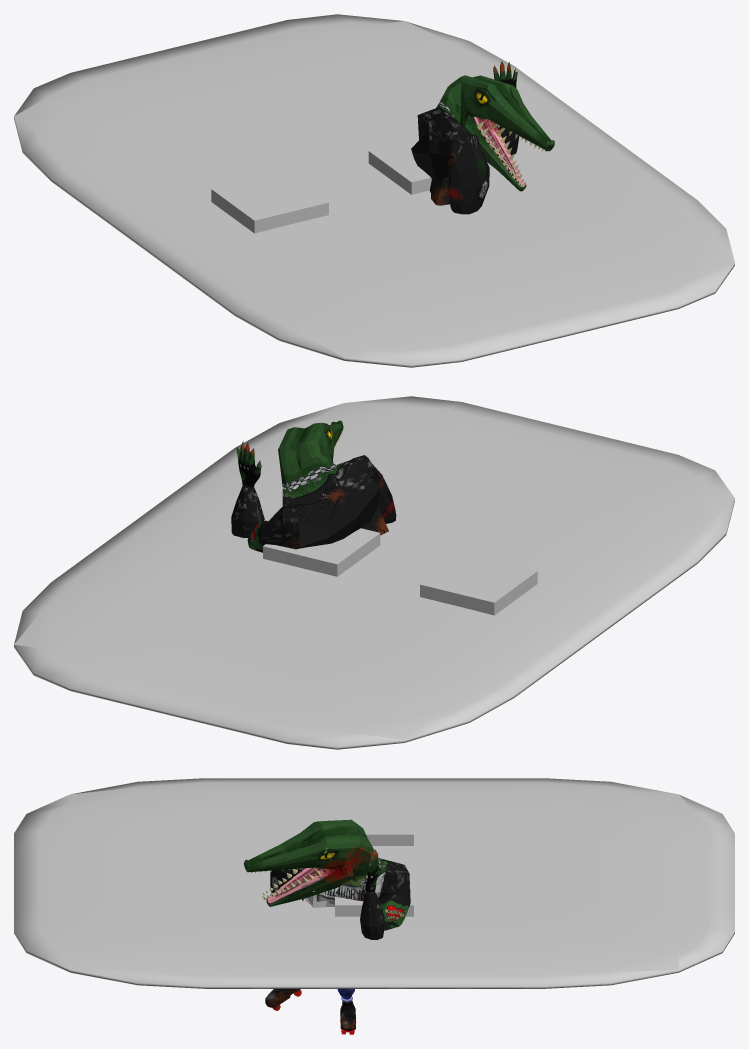
The model's file is cocodrilaBonesSelect_000074.obj.
The picture shows the model from 3 angles, top to bottom: view 1: azimuth 30°, elevation 25°; view 2: azimuth 150°, elevation 25°; view 3: azimuth 270°, elevation 25°; orthographic projection. The views are drawn at different scales.
Parts seen in each view (by area): view 1: Mball, Crocodile.002_Cylinder.002, Cube, Cube.001; view 2: Mball, Crocodile.002_Cylinder.002, Cube, Cube.001; view 3: Mball, Crocodile.002_Cylinder.002, Cube, Cube.001.
Boxes of the visible parts, x1=… form: Mball: x1=14, y1=14, x2=734, y2=367; Crocodile.002_Cylinder.002: x1=411, y1=61, x2=554, y2=214; Cube: x1=211, y1=171, x2=328, y2=233; Cube.001: x1=368, y1=138, x2=431, y2=194; Mball: x1=14, y1=396, x2=734, y2=749; Crocodile.002_Cylinder.002: x1=231, y1=420, x2=396, y2=552; Cube: x1=420, y1=553, x2=537, y2=615; Cube.001: x1=263, y1=528, x2=380, y2=576; Mball: x1=14, y1=778, x2=734, y2=988; Crocodile.002_Cylinder.002: x1=243, y1=819, x2=410, y2=1034; Cube: x1=335, y1=801, x2=413, y2=845; Cube.001: x1=335, y1=871, x2=413, y2=916.
Size of the model in its own units: 12.42 by 6.17 by 18.18.
